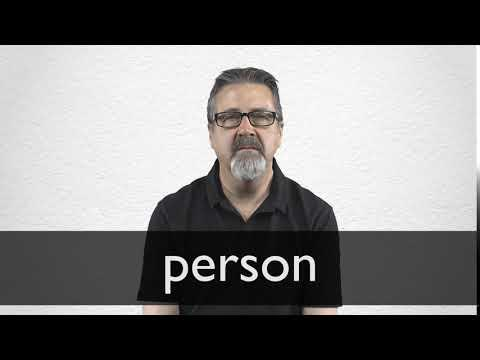Persons: (191, 56, 298, 205)
